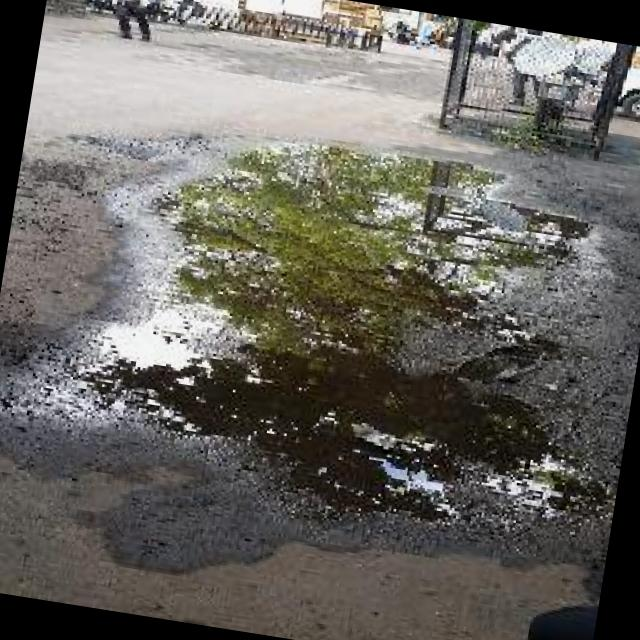stagnation: (41, 104, 640, 567)
